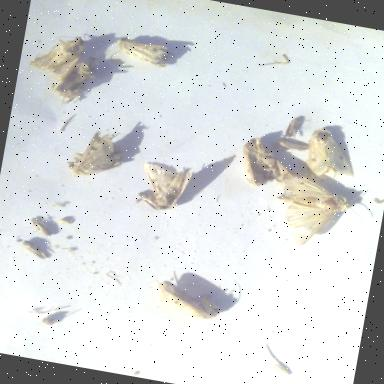abw: (60, 122, 132, 186), (146, 274, 228, 330), (134, 156, 202, 218), (24, 24, 91, 86), (300, 123, 362, 187), (230, 132, 293, 194), (48, 54, 102, 112), (110, 32, 174, 73)
